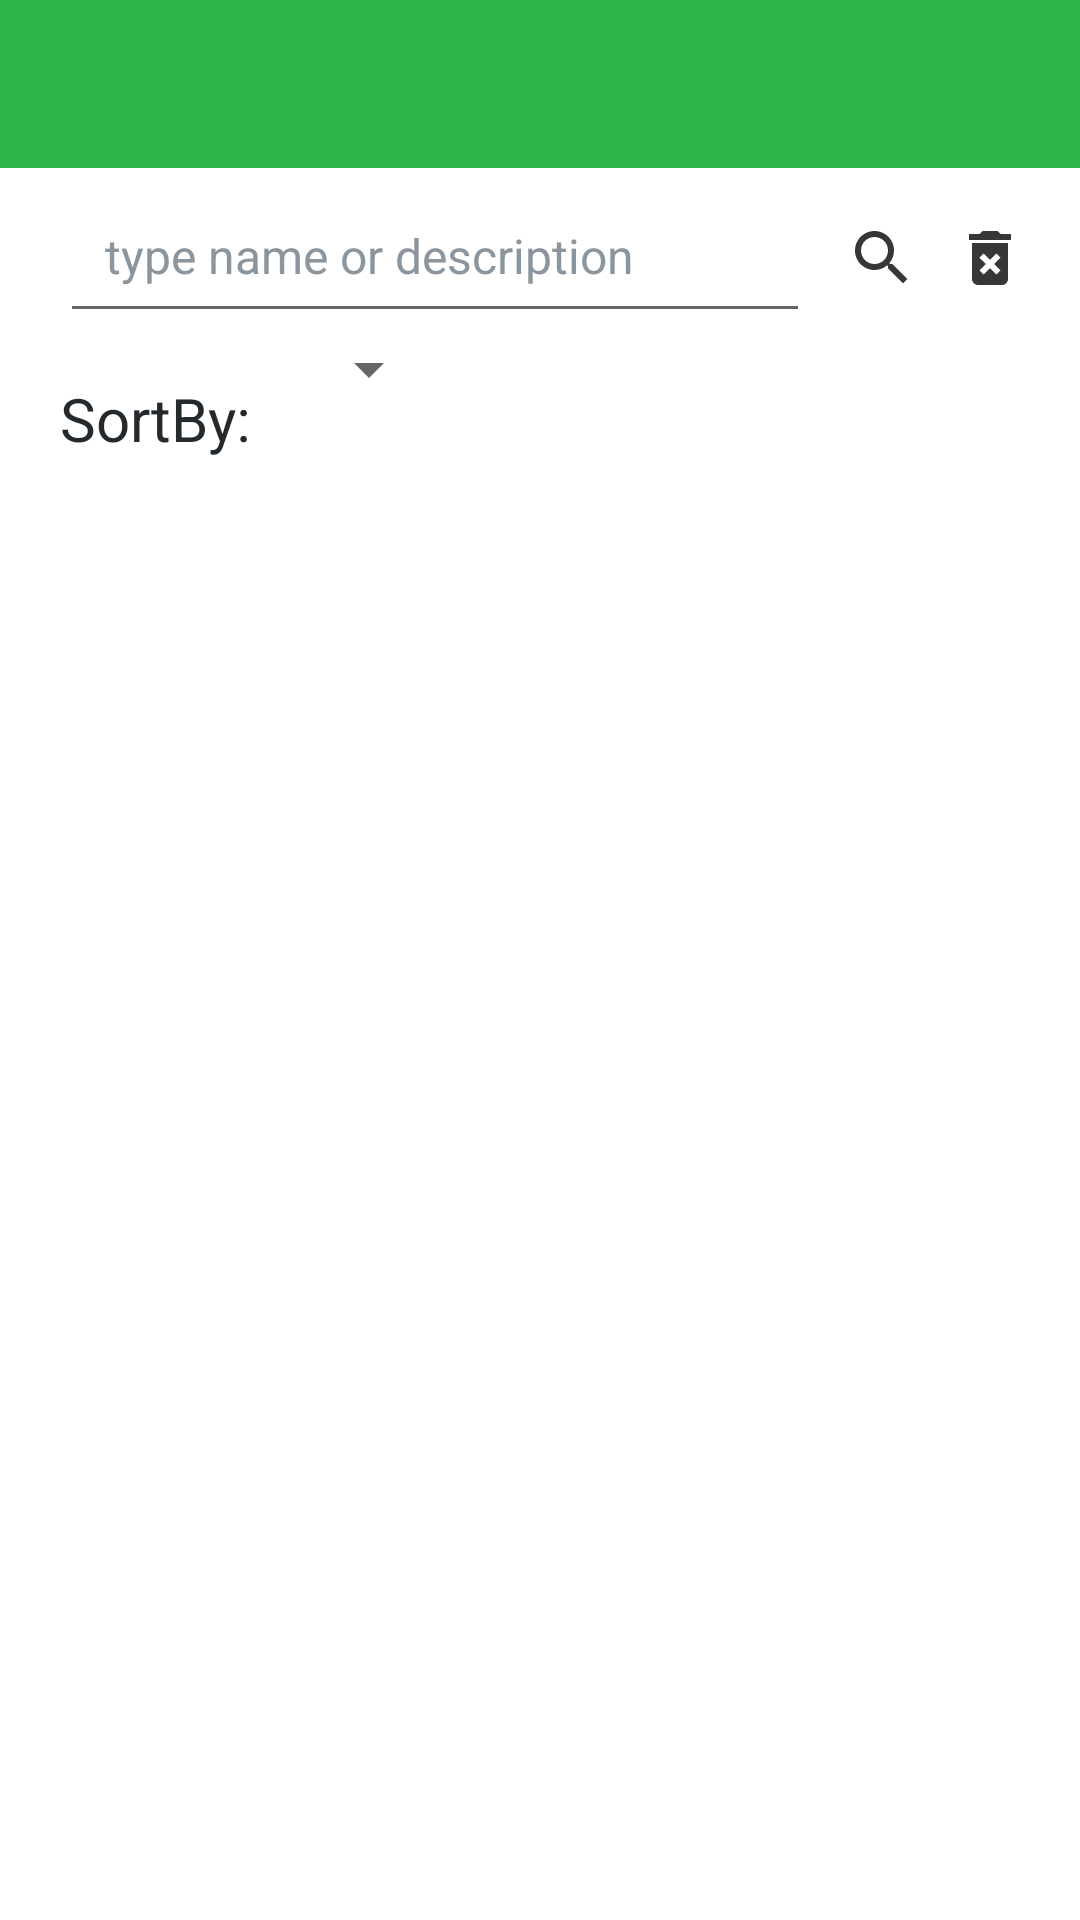

Screen size 1080 x 1920. Icon name, then its box in pixels as {"left": x1, "top": y1, "right": x2, "bottom": y2}:
clear: {"left": 969, "top": 231, "right": 1011, "bottom": 285}
search: {"left": 855, "top": 231, "right": 907, "bottom": 283}
